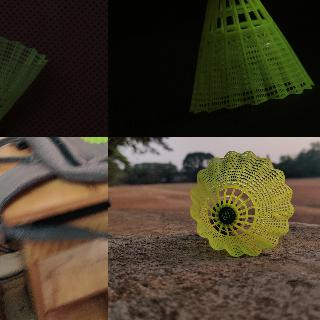shuttlecock: (189, 0, 313, 115), (188, 149, 294, 257), (0, 30, 48, 136)
